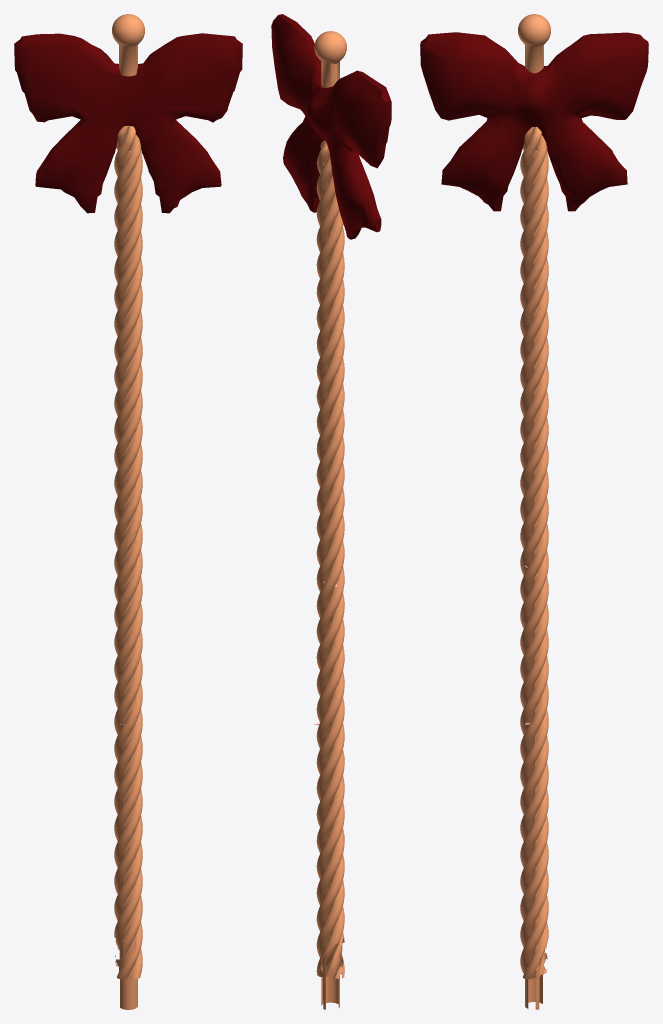
Rendered from CarrosellPole.fbx.
The picture shows the model from 3 angles, left to right: view 1: azimuth 90°, elevation 25°; view 2: azimuth 210°, elevation 25°; view 3: azimuth 270°, elevation 25°; orthographic projection.
Visible parts, largest first — view 1: Carrousel; view 2: Carrousel; view 3: Carrousel.
Boxes of the visible parts, x1,y1,x2,y2 form: Carrousel: [14, 14, 242, 1009]; Carrousel: [271, 14, 391, 1009]; Carrousel: [420, 14, 648, 1009].
Bounding box in the file's own units: 8.98 × 238 × 49.85.
